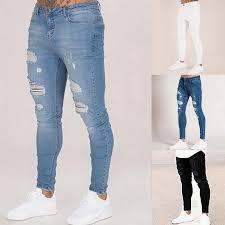pants: (26, 6, 113, 195), (175, 155, 211, 212), (173, 2, 204, 66), (175, 76, 206, 138)
